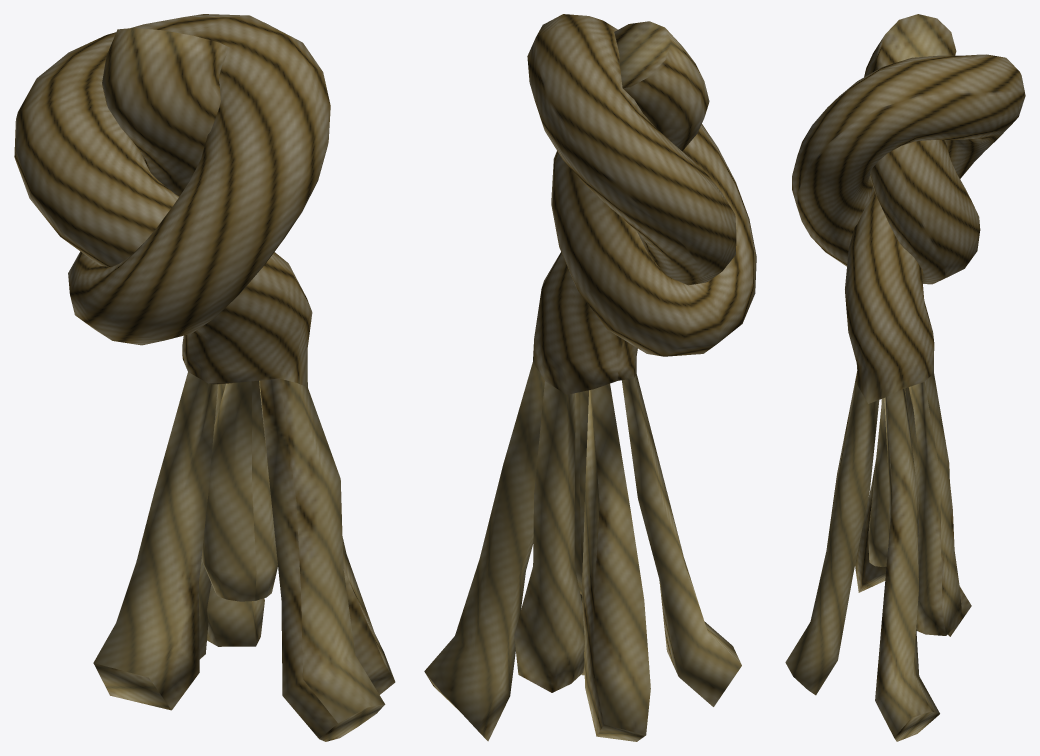
3 renders of one model, left to right at view 1: azimuth 30°, elevation 25°; view 2: azimuth 150°, elevation 25°; view 3: azimuth 270°, elevation 25°, orthographic. The views are drawn at different scales.
Visible parts, largest first — view 1: Line059_Material_0_0; view 2: Line059_Material_0_0; view 3: Line059_Material_0_0.
Boxes of the visible parts, x1=… form: Line059_Material_0_0: x1=14, y1=14, x2=395, y2=741; Line059_Material_0_0: x1=424, y1=14, x2=756, y2=741; Line059_Material_0_0: x1=785, y1=14, x2=1025, y2=741.
Bounding box in the file's own units: 0.0765 × 0.1626 × 0.055.
Materials: 1 (1 with a texture image).
